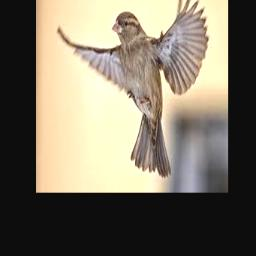Sparrow: (58, 0, 209, 177)
